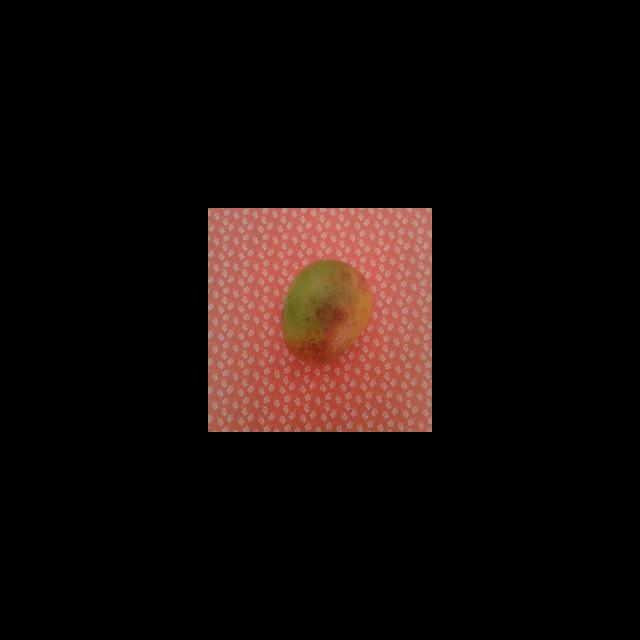Mango: (281, 258, 372, 361)
